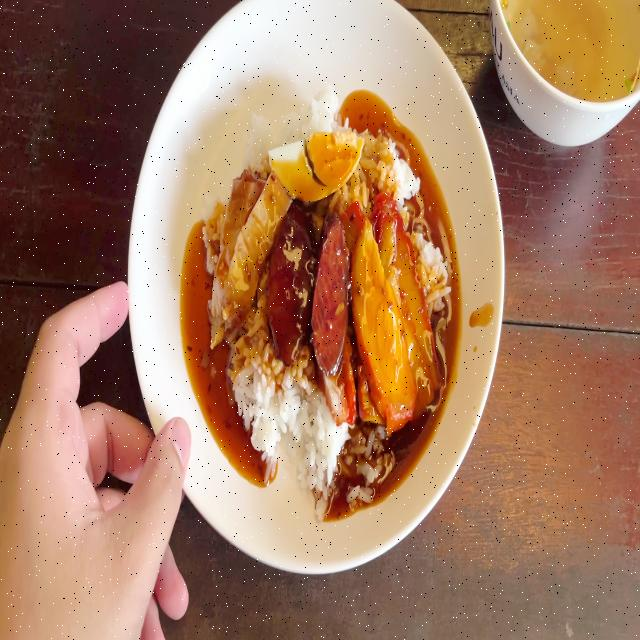boiled_egg: (262, 126, 366, 188)
chainese_sausage: (273, 220, 352, 355), (312, 218, 354, 364), (269, 218, 315, 339)
crispy_pork: (210, 170, 283, 322), (218, 166, 286, 318), (212, 167, 256, 276)
red_pork: (355, 203, 439, 422), (348, 218, 408, 405), (392, 197, 442, 402)
red_pork_and_crispy_pork: (207, 102, 442, 473)
rice: (234, 327, 284, 447), (292, 371, 336, 495), (351, 138, 412, 200)
